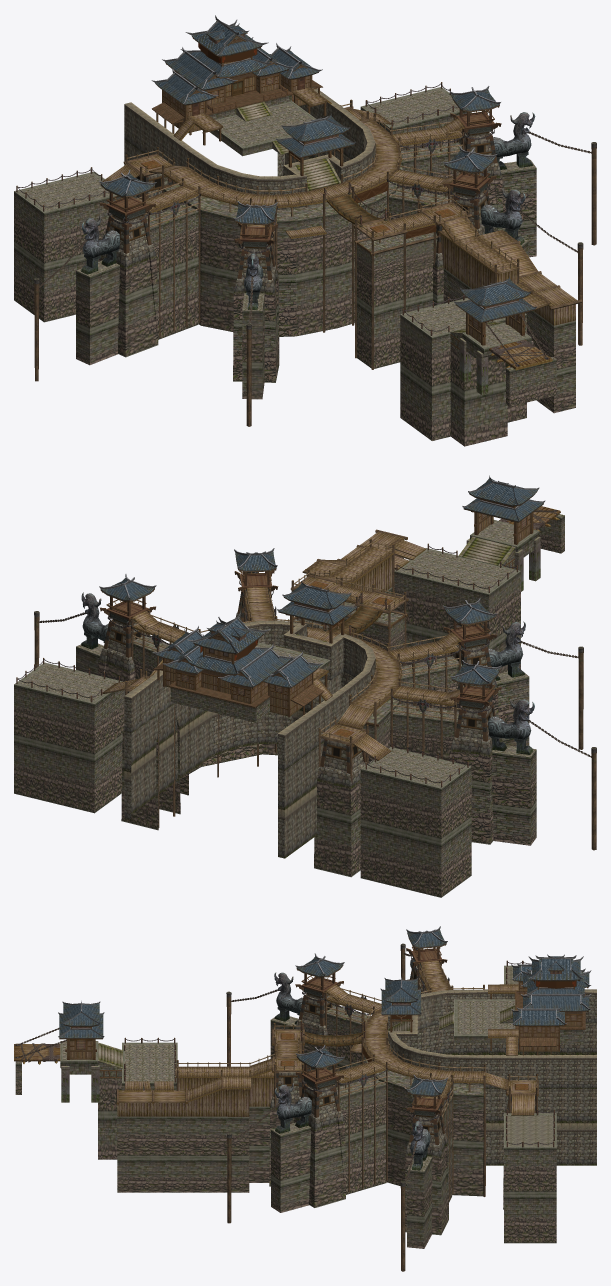
Rendered from huxindao_jx_20.fbx.
The picture shows the model from 3 angles, top to bottom: view 1: azimuth 30°, elevation 25°; view 2: azimuth 150°, elevation 25°; view 3: azimuth 270°, elevation 25°; orthographic projection. The views are drawn at different scales.
Parts seen in each view (by area): view 1: huxindao_jx_20; view 2: huxindao_jx_20; view 3: huxindao_jx_20.
Part boxes in pixels (box(x1,y1,x2,y2)): huxindao_jx_20: box(14, 15, 596, 446); huxindao_jx_20: box(14, 475, 596, 897); huxindao_jx_20: box(14, 926, 596, 1271).
Size of what is drawn, in the model's own units: 16740 by 6698 by 17210.
